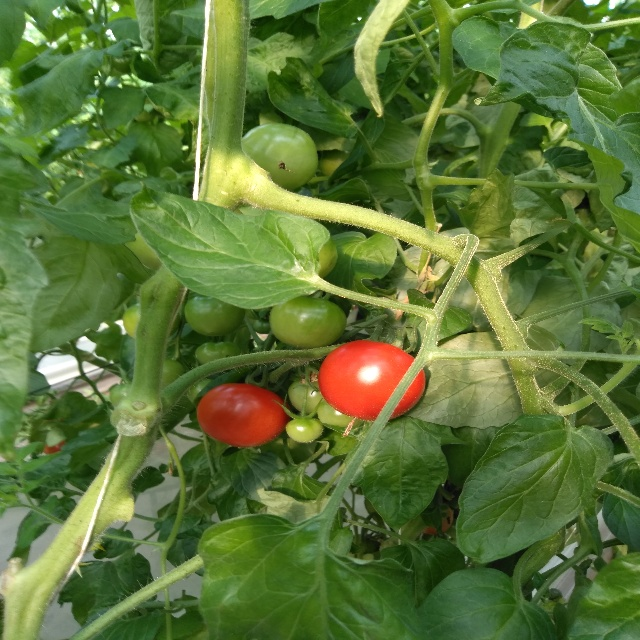l_fully_ripened: (316, 340, 426, 423), (196, 383, 292, 448)
l_green: (242, 123, 320, 190), (269, 295, 347, 348), (184, 295, 246, 337), (287, 370, 325, 416), (316, 402, 364, 429), (284, 416, 324, 442), (196, 342, 240, 364), (161, 358, 185, 391), (109, 383, 132, 407)
